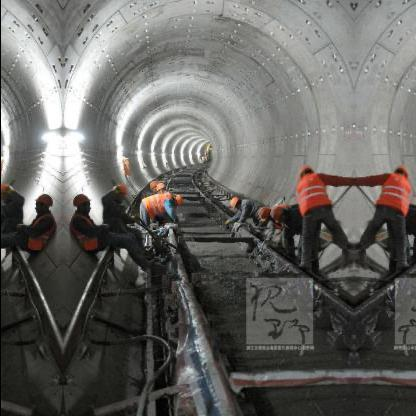Helmet: (31, 188, 50, 216), (72, 188, 90, 216), (266, 204, 288, 221), (296, 162, 316, 180), (389, 162, 409, 180), (112, 180, 128, 200), (224, 194, 242, 210), (255, 205, 273, 221), (0, 179, 11, 202), (169, 193, 181, 205), (154, 182, 166, 194), (146, 178, 156, 192)
